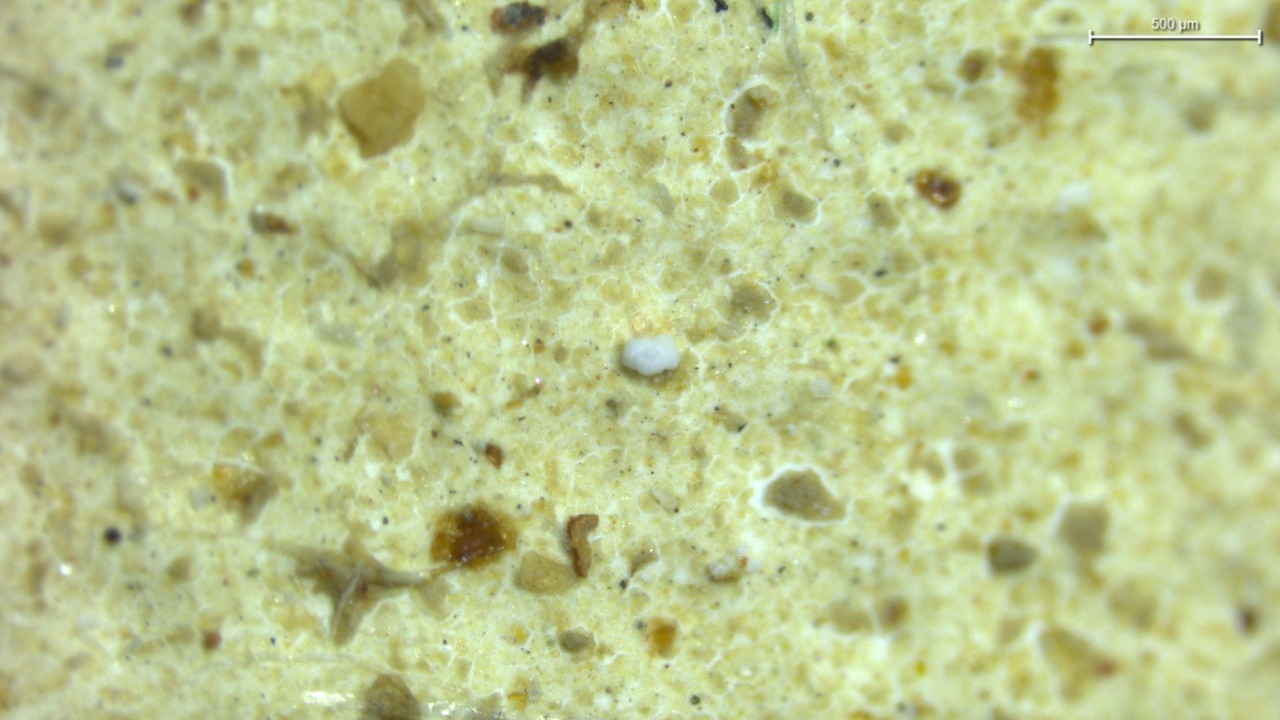microplastic_fragment: (338, 58, 425, 156), (621, 335, 680, 376)
